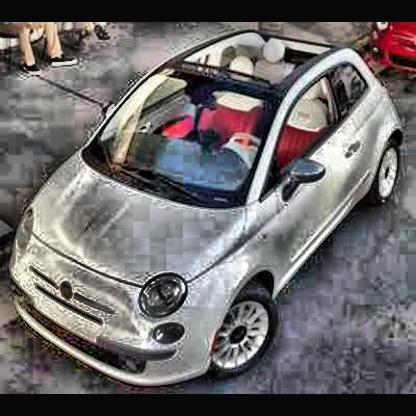FIAT 500 Convertible 2012: (8, 32, 401, 388)
